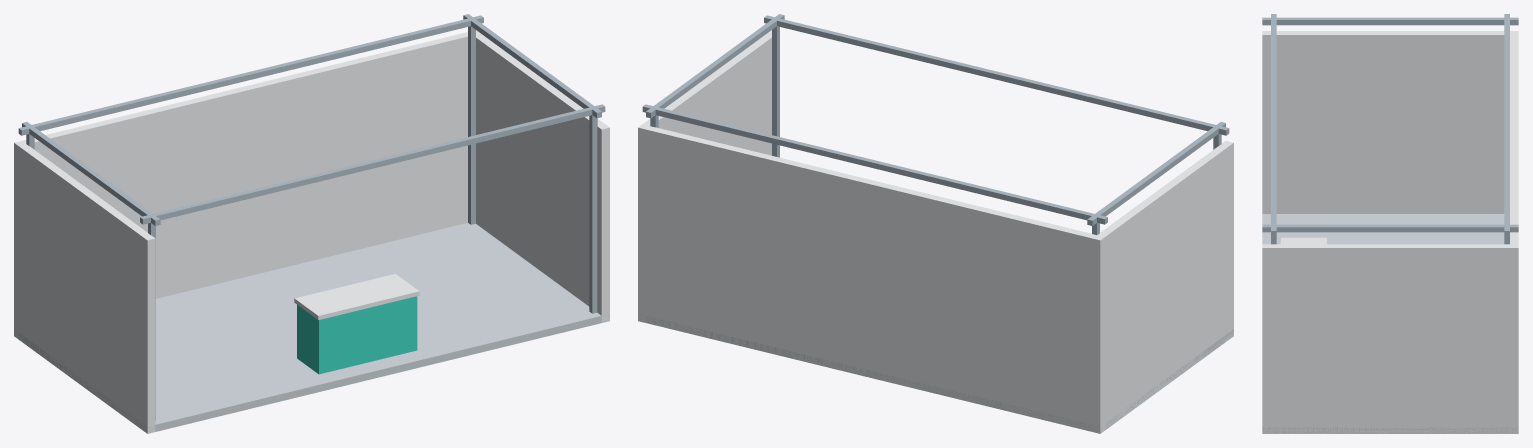
3 views of the same model, side by side, from view 1: azimuth 30°, elevation 25°; view 2: azimuth 150°, elevation 25°; view 3: azimuth 270°, elevation 25° (orthographic). The views are drawn at different scales.
Visible parts, largest first — view 1: Exhibition Booth Concept; view 2: Exhibition Booth Concept; view 3: Exhibition Booth Concept.
Part boxes in pixels (left/top/right/bottom): Exhibition Booth Concept: left=14, top=14, right=609, bottom=433; Exhibition Booth Concept: left=638, top=14, right=1233, bottom=433; Exhibition Booth Concept: left=1262, top=14, right=1518, bottom=433.
Bounding box in the file's own units: 8 × 3.49 × 4.
